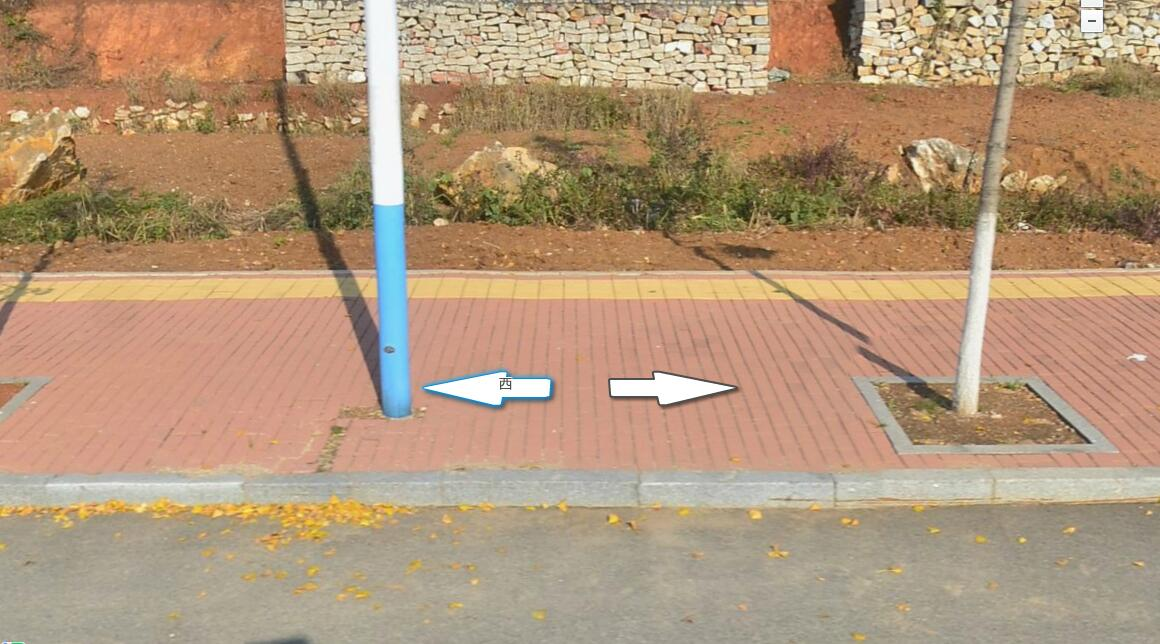side: (642, 473, 836, 510), (443, 473, 642, 508), (46, 472, 246, 505), (244, 473, 445, 505), (993, 468, 1160, 505), (833, 471, 993, 508)
